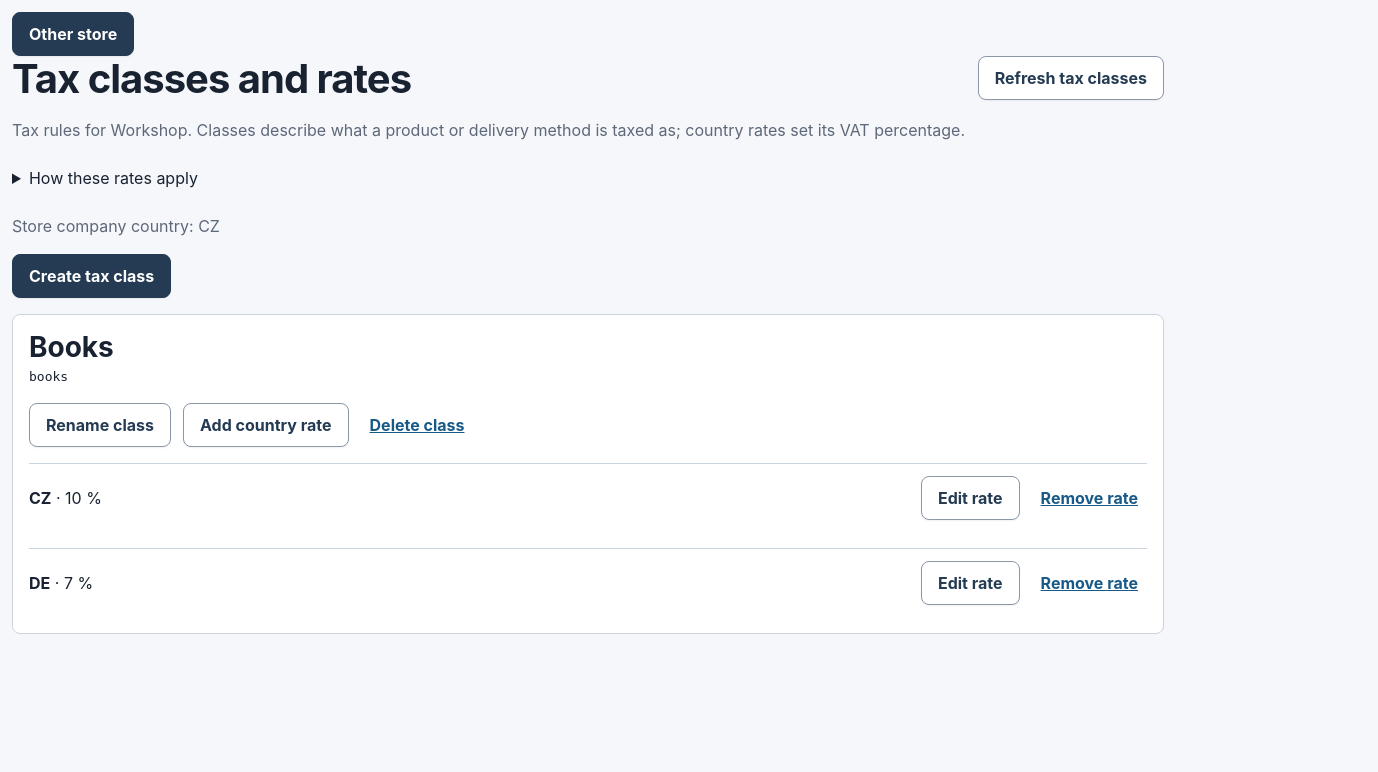
Test case: generates a visible canonical code from Czech text and creates only after explicit submit
Expected: the heading "Books" is shown, x1=29 y1=330 x2=114 y2=364
Click the button "Create tax class". click: (92, 276)
box: x1=12 y1=254 x2=171 y2=298
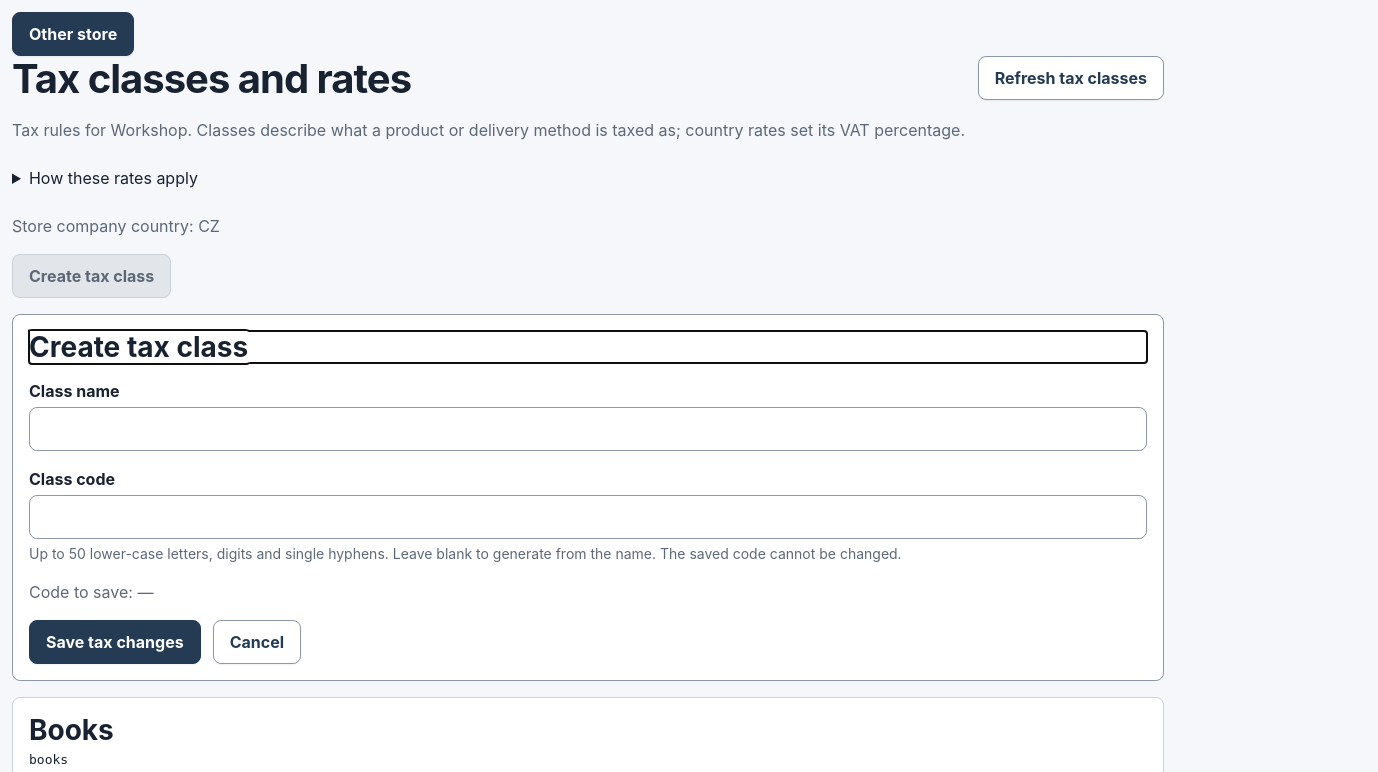
Type "Tištěné knihy" into the field labelled "Class name". click: (588, 429)
box: x1=29 y1=407 x2=1147 y2=451
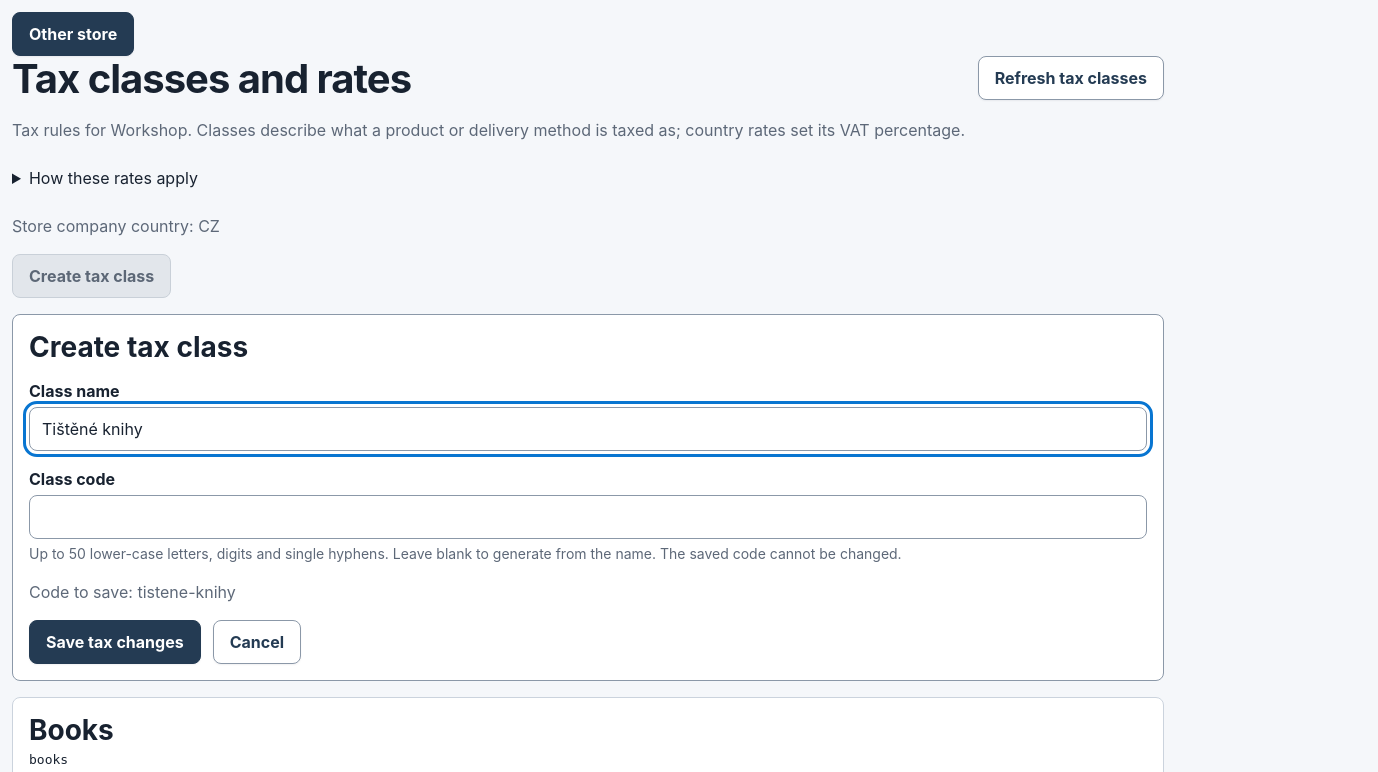
Now the text "Code to save: tistene-knihy" is shown, box x1=29 y1=582 x2=236 y2=602
Click the button "Save tax changes". click: (115, 642)
box: x1=29 y1=620 x2=201 y2=664
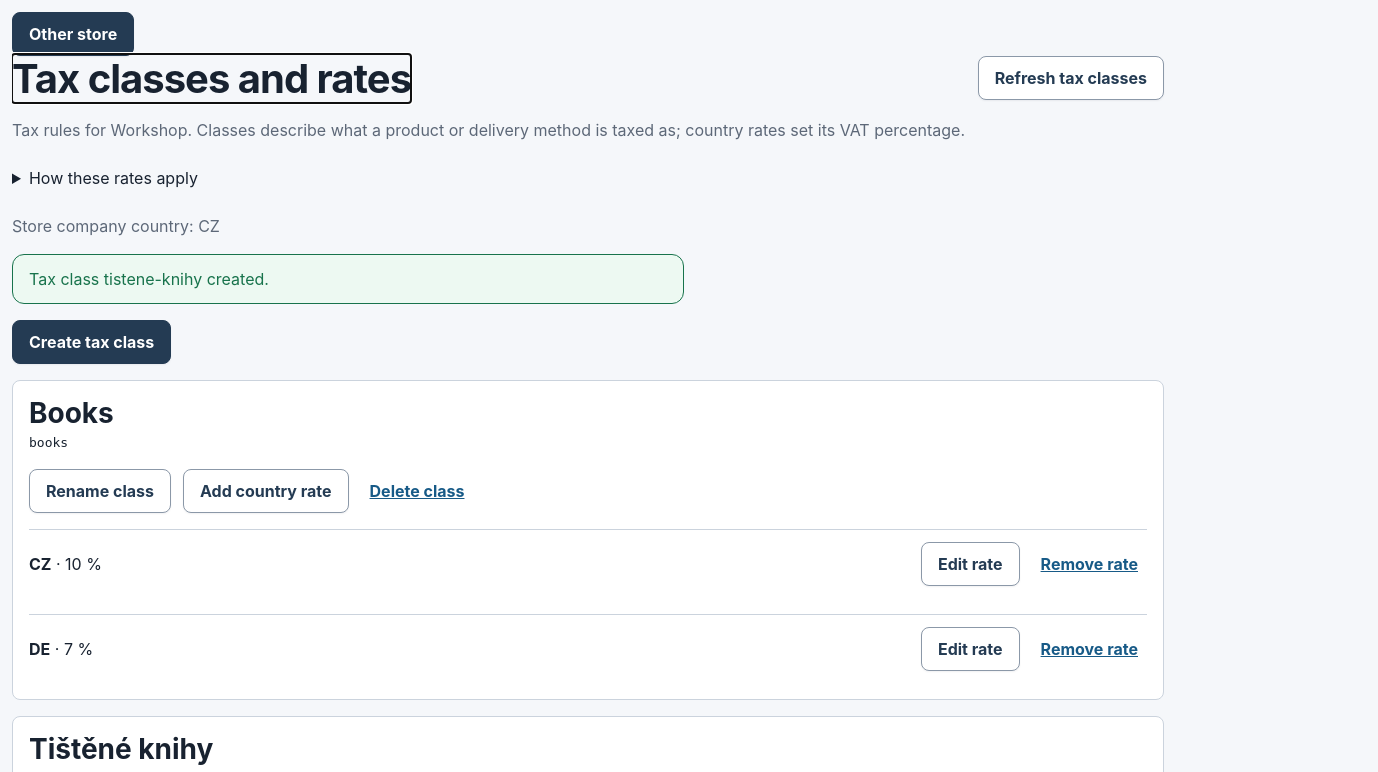
Now the text "Tax class tistene-knihy created." is shown, box x1=29 y1=269 x2=269 y2=289
